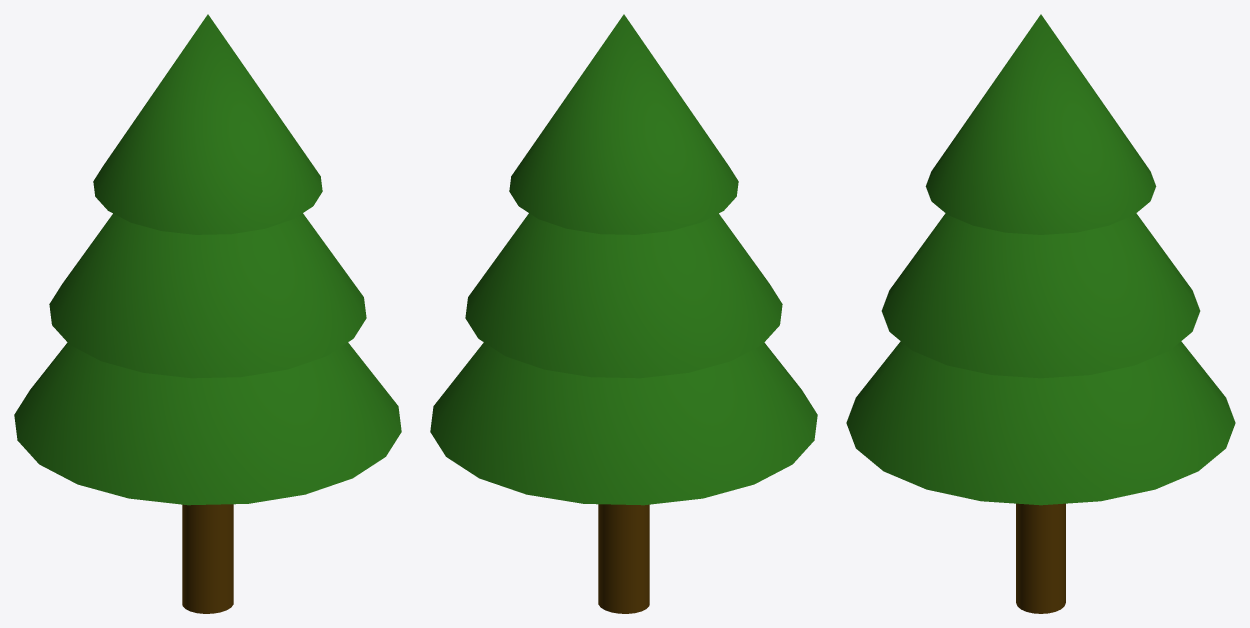
The model's file is Sapin.fbx.
3 views of the same model, side by side, from view 1: azimuth 30°, elevation 25°; view 2: azimuth 150°, elevation 25°; view 3: azimuth 270°, elevation 25° (orthographic).
Parts seen in each view (by area): view 1: pCone4; view 2: pCone4; view 3: pCone4.
Part boxes in pixels (x1,y1,x2,y2): pCone4: [14, 14, 401, 613]; pCone4: [430, 14, 817, 613]; pCone4: [846, 14, 1235, 613].
Size of the model in its own units: 3.38 by 5.64 by 3.38.
